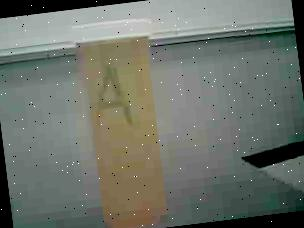Bottle A: (54, 4, 198, 228)
